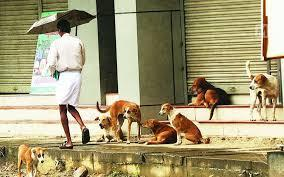dog_aggressive: (96, 114, 122, 147)
normal_dogs: (242, 56, 280, 122), (96, 98, 148, 144), (158, 100, 212, 144), (189, 73, 232, 110), (11, 142, 46, 177), (142, 116, 176, 142)
